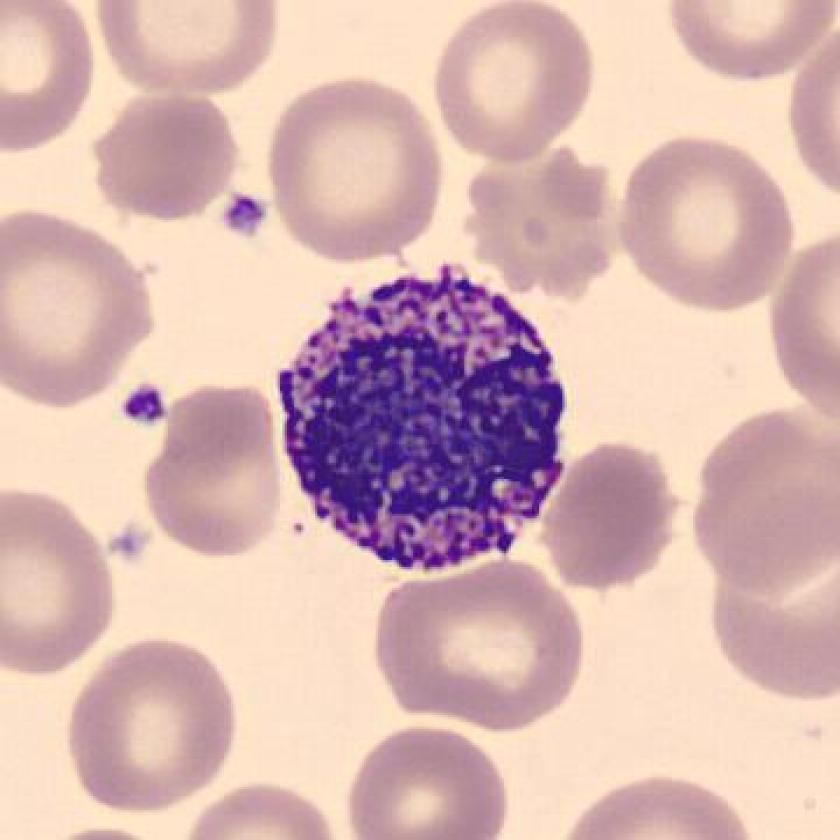basophil: (283, 263, 580, 584)
